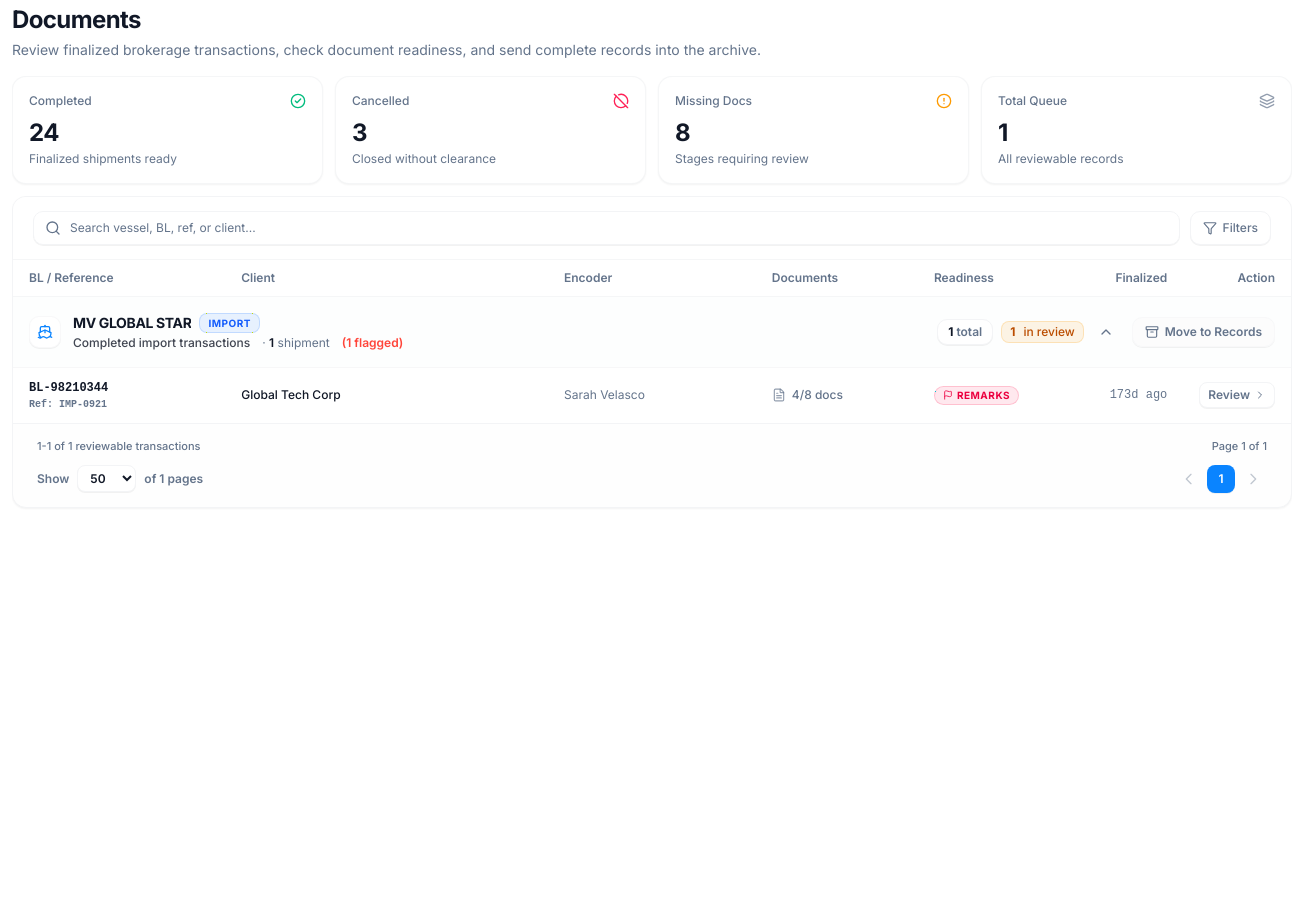
Scenario: AdminDocumentReview › renders queue data and loads detail when a transaction is selected
This screenshot has width=1292, height=900.
expect the heading "Documents" is shown: met, box 12,5 -> 141,34
expect the text "Review finalized brokerage transactions, check document readiness, and send complete records into the archive." is shown: met, box 12,41 -> 761,58
Click the button "BL-98210344" at x=69, y=388, box 29,380 -> 108,396
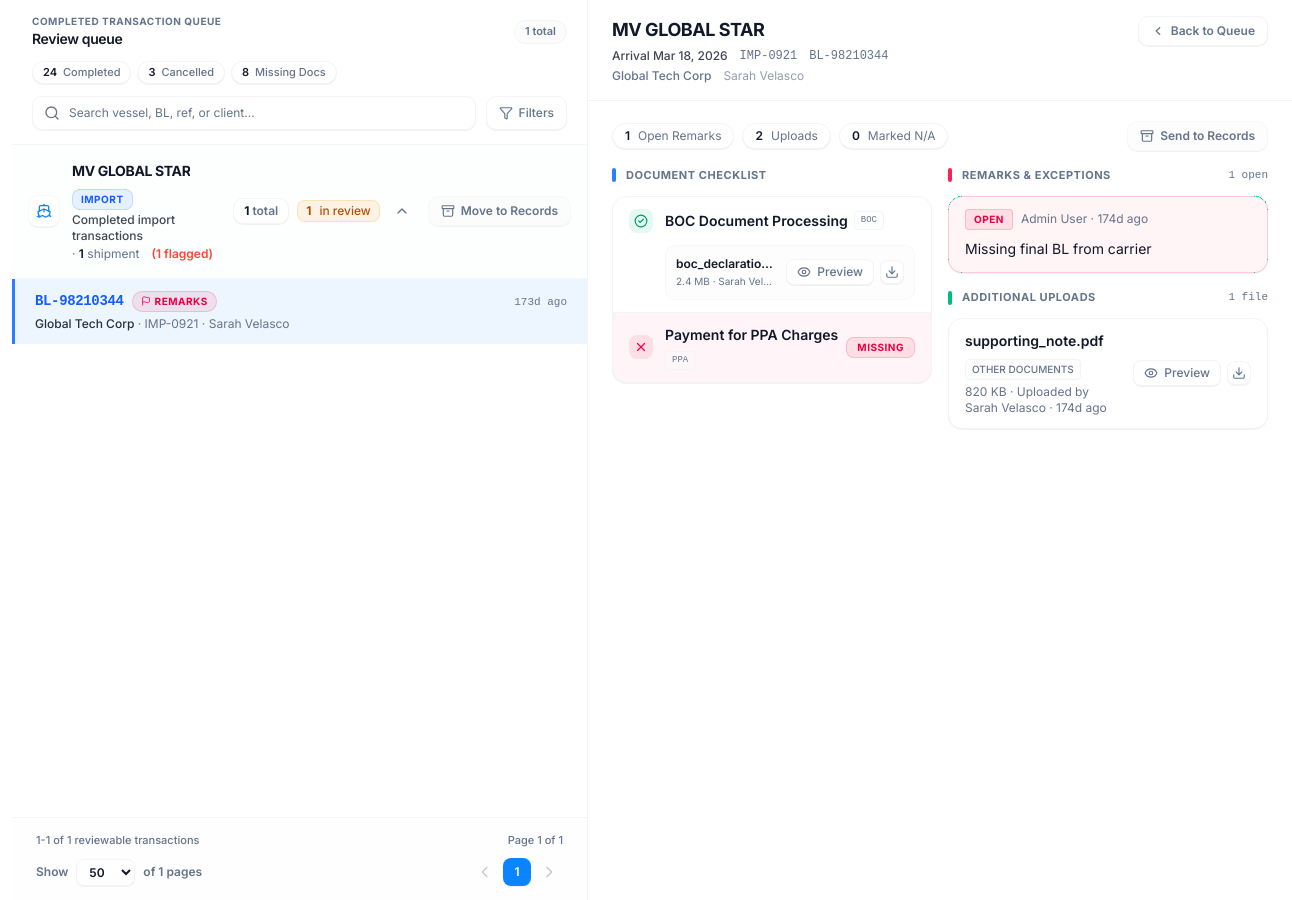
expect the element with test id "admin-review-workspace" is shown: met, box 588,0 -> 1291,899
expect the text "BOC Document Processing" is shown: met, box 665,210 -> 848,230
expect the element with test id "admin-review-detail-header" shows "MV GLOBAL STAR": met, box 612,19 -> 764,40
